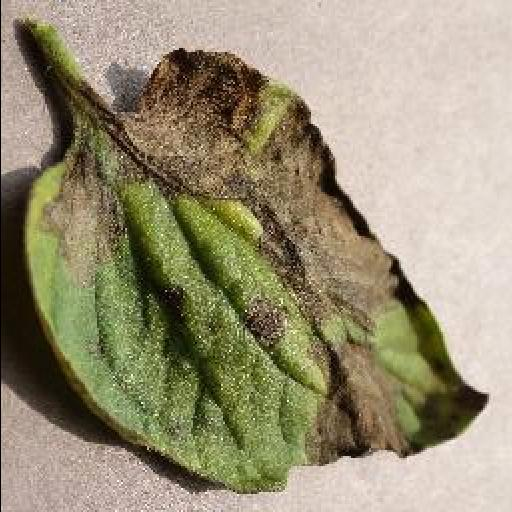disease_tomato: (22, 50, 490, 496)
